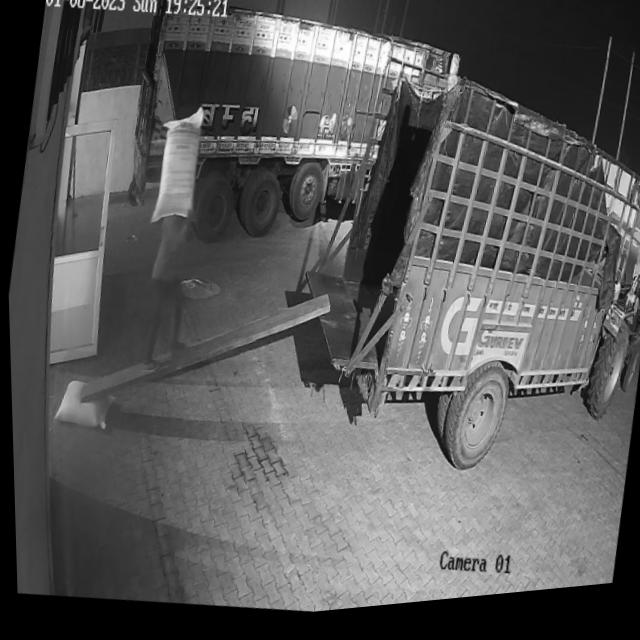sack: (145, 107, 207, 232), (49, 374, 114, 436)
